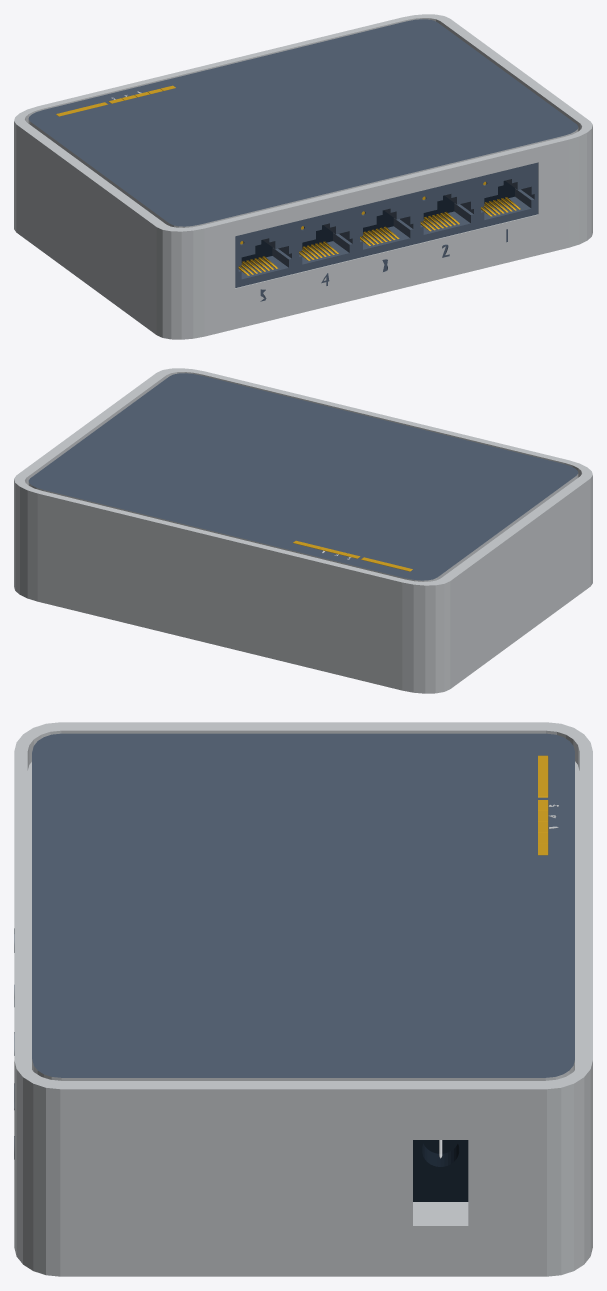
Rendered from network-switch.glb.
3 renders of one model, top to bottom at view 1: azimuth 30°, elevation 25°; view 2: azimuth 150°, elevation 25°; view 3: azimuth 270°, elevation 25°, orthographic. The views are drawn at different scales.
Visible parts, largest first — view 1: model; view 2: model; view 3: model.
Part boxes in pixels (x1,y1,x2,y2): model: [14, 14, 592, 339]; model: [14, 368, 592, 693]; model: [14, 722, 592, 1276].
Size of the model in its own units: 1.5 by 0.3587 by 1.
